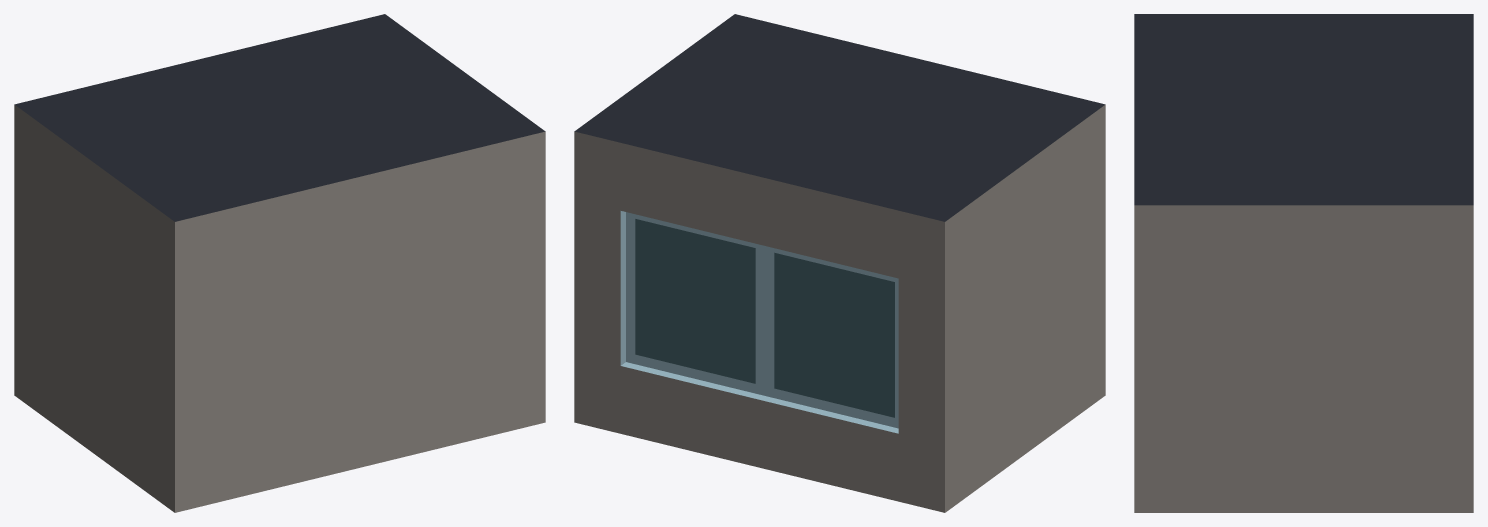
Rendered from flat-box-window_03.fbx.
3 views of the same model, side by side, from view 1: azimuth 30°, elevation 25°; view 2: azimuth 150°, elevation 25°; view 3: azimuth 270°, elevation 25° (orthographic). The views are drawn at different scales.
Visible parts, largest first — view 1: flat-box-window_03; view 2: flat-box-window_03; view 3: flat-box-window_03.
Part boxes in pixels (x1,y1,x2,y2): flat-box-window_03: (14,14,545,512); flat-box-window_03: (574,14,1105,512); flat-box-window_03: (1134,14,1473,512).
Bounding box in the file's own units: 400 × 300 × 300.
